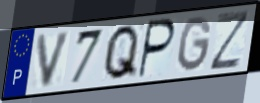7: (70, 28, 105, 86)
G: (177, 15, 214, 74)
P: (136, 17, 177, 80)
Q: (101, 23, 141, 83)
V: (36, 28, 74, 90)
Z: (208, 8, 252, 73)
